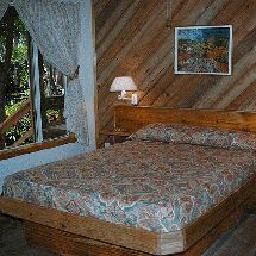Cama: (1, 132, 253, 219)
Ventana: (3, 6, 78, 141)
